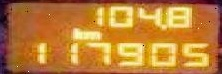-: (157, 21, 166, 29)
0: (146, 40, 175, 66), (106, 4, 133, 26)
1: (66, 40, 79, 65), (35, 39, 48, 64), (93, 4, 104, 26)
4: (135, 5, 159, 25)
5: (180, 40, 209, 65)
7: (82, 40, 111, 64)
8: (162, 4, 191, 26)
9: (113, 40, 142, 65)
X: (80, 29, 100, 39), (69, 26, 80, 39)
